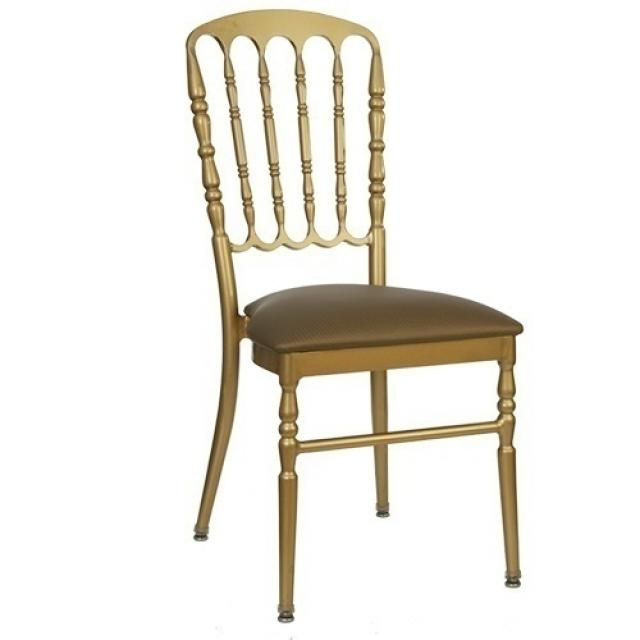Chair: (169, 5, 527, 625)
